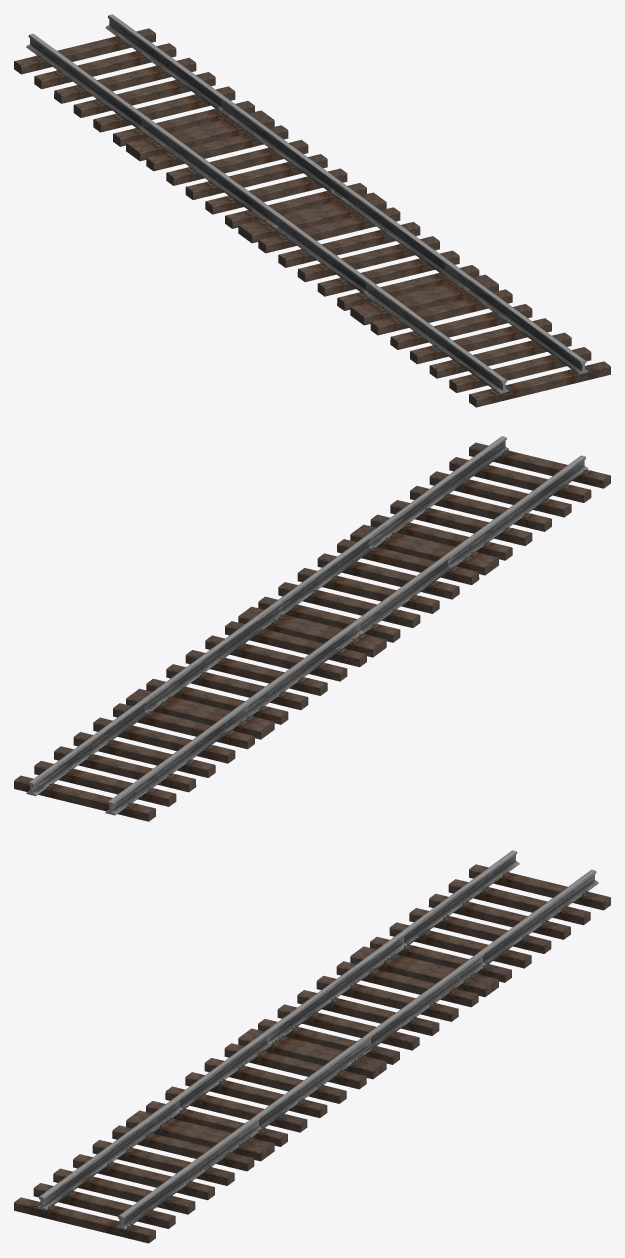
Rendered from track.obj.
3 renders of one model, top to bottom at view 1: azimuth 30°, elevation 25°; view 2: azimuth 150°, elevation 25°; view 3: azimuth 330°, elevation 25°, orthographic.
Parts seen in each view (by area): view 1: Cube.007_Material_0; view 2: Cube.007_Material_0; view 3: Cube.007_Material_0.
Boxes of the visible parts, x1,y1,x2,y2 form: Cube.007_Material_0: [14, 14, 610, 407]; Cube.007_Material_0: [14, 436, 610, 821]; Cube.007_Material_0: [14, 850, 610, 1243].
Size of the model in its own units: 0.7728 by 0.1126 by 4.7.
